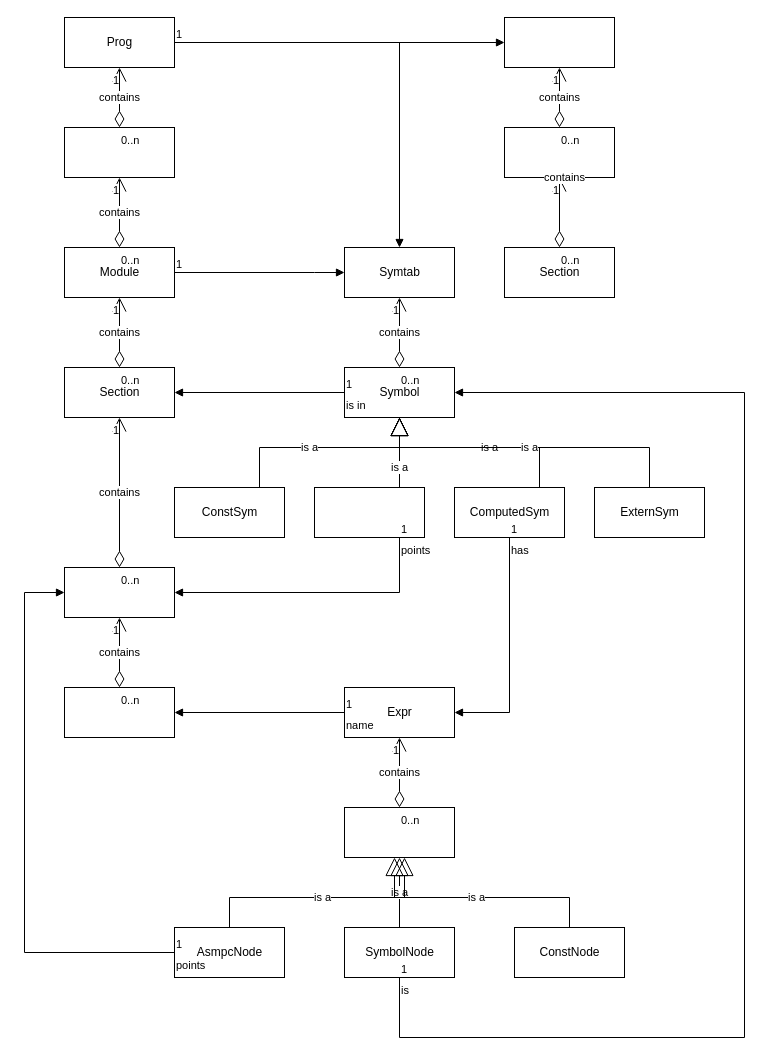
This 770x1063 diagram has some shape labels left out. The centre of each missing label's shape, as x and y in pixels:
ExprNode: the point at 399,832
Instr: the point at 119,592
LabelSym: the point at 369,512
MemArea: the point at 559,152
MemMap: the point at 559,42
Object: the point at 119,152
Patch: the point at 119,712
